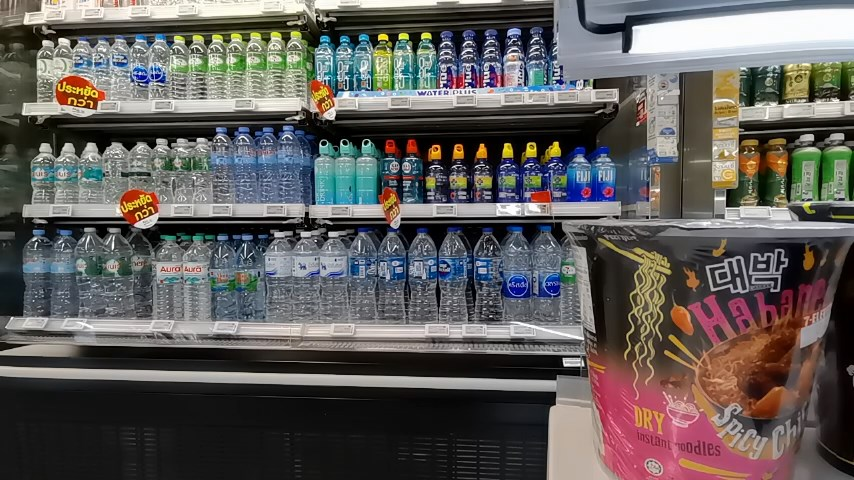0-0: (75, 226, 151, 317)
